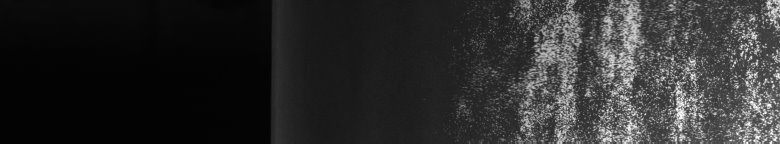kb: (496, 4, 776, 136)
